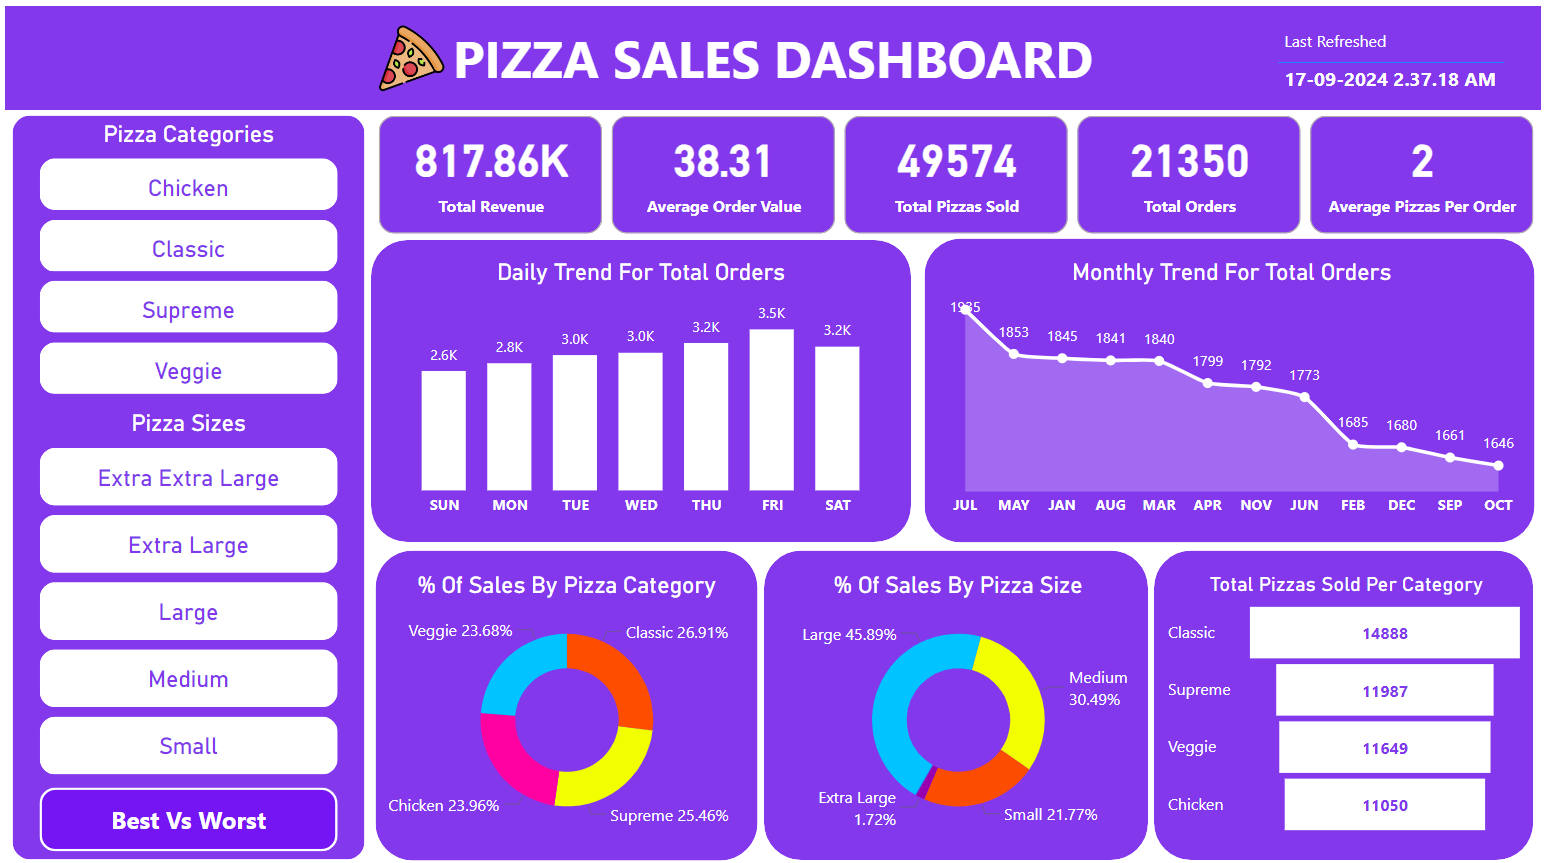

The page's visual inventory and layout, read from the dashboard file:
{"tool":"powerbi","page":{"name":"Overview","canvas":[1280,720],"ordinal":0},"visuals":[{"type":"cardVisual","fields":{"Data":["pizza_sales.Total Revenue","pizza_sales.Average Order Value","pizza_sales.Total Pizzas Sold","pizza_sales.Total Orders","pizza_sales.Average Pizzas Per Order"]},"box":[306.7,86.7,973.3,108.3],"z":0},{"type":"shape","box":[0,0,1280,86.7],"z":1000},{"type":"textbox","box":[0,8.3,1280,68.3],"z":2000},{"type":"image","box":[306.7,6.7,65,75],"z":3000},{"type":"shape","box":[305,195,450,251.7],"z":4000},{"type":"clusteredColumnChart","title":"Daily Trend For Total Orders","fields":{"Category":["pizza_sales.Day Name"],"Y":["pizza_sales.Total Orders"]},"box":[320,210,420,223.3],"z":5000},{"type":"shape","box":[766.7,193.3,508.3,253.3],"z":6000},{"type":"areaChart","title":"Monthly Trend For Total Orders","fields":{"Y":["pizza_sales.Total Orders"],"Category":["pizza_sales.Month Name Short"]},"box":[778.3,210,486.7,223.3],"z":7000},{"type":"shape","box":[308.3,453.3,318.3,258.3],"z":8000},{"type":"shape","box":[632,454,320,258],"z":9000},{"type":"shape","box":[958,454,316,258],"z":10000},{"type":"donutChart","title":"% Of Sales By Pizza Category","fields":{"Category":["pizza_sales.pizza_category"],"Y":["pizza_sales.Total Revenue"]},"box":[313.3,471.7,308.3,225],"z":11000},{"type":"donutChart","title":"% Of Sales By Pizza Size","fields":{"Y":["pizza_sales.Total Revenue"],"Category":["pizza_sales.pizza_size"]},"box":[640,471.7,308.3,225],"z":12000},{"type":"funnel","title":"Total Pizzas Sold Per Category","fields":{"Y":["pizza_sales.Total Pizzas Sold"],"Category":["pizza_sales.pizza_category"]},"box":[963.3,471.7,308.3,225],"z":13000},{"type":"shape","box":[6.7,91.7,293.3,620],"z":14000},{"type":"advancedSlicerVisual","title":"Pizza Categories","fields":{"Values":["pizza_sales.pizza_category"]},"box":[23.3,95,258.3,235],"z":15000},{"type":"advancedSlicerVisual","title":"Pizza Sizes","fields":{"Values":["pizza_sales.pizza_size"]},"box":[23.3,336.7,258.3,311.7],"z":16000},{"type":"tableEx","fields":{"Values":["Query1.Last Refreshed"]},"box":[1055,13.3,218.3,63.3],"z":17000},{"type":"shape","box":[29,651.6,248.4,53.2],"z":18000}]}

Visuals, with their boxes in screenshot pixels (x1, y1, x2, y2), scaled from the page's 1280x720 canvas onto the 1545x863 screenshot:
cardVisual - pizza_sales.Total Revenue x pizza_sales.Average Order Value: rect(370, 104, 1544, 234)
shape: rect(0, 0, 1544, 104)
textbox: rect(0, 10, 1544, 92)
image: rect(370, 8, 449, 98)
shape: rect(368, 234, 911, 535)
"Daily Trend For Total Orders" clusteredColumnChart: rect(386, 252, 893, 519)
shape: rect(925, 232, 1539, 535)
"Monthly Trend For Total Orders" areaChart: rect(939, 252, 1527, 519)
shape: rect(372, 543, 756, 853)
shape: rect(763, 544, 1149, 853)
shape: rect(1156, 544, 1538, 853)
"% Of Sales By Pizza Category" donutChart: rect(378, 565, 750, 835)
"% Of Sales By Pizza Size" donutChart: rect(772, 565, 1145, 835)
"Total Pizzas Sold Per Category" funnel: rect(1163, 565, 1535, 835)
shape: rect(8, 110, 362, 853)
"Pizza Categories" advancedSlicerVisual: rect(28, 114, 340, 396)
"Pizza Sizes" advancedSlicerVisual: rect(28, 404, 340, 777)
tableEx - Query1.Last Refreshed: rect(1273, 16, 1537, 92)
shape: rect(35, 781, 335, 845)
